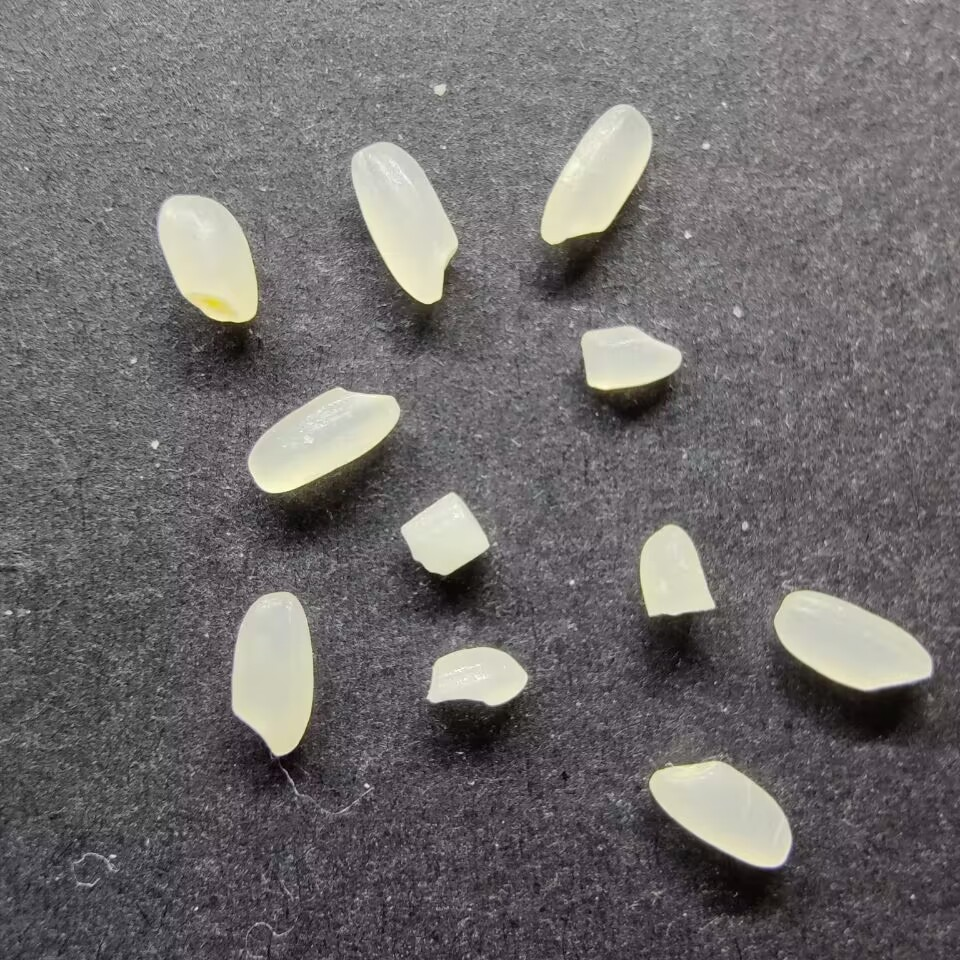broken: (399, 489, 491, 578), (636, 519, 717, 619), (422, 643, 532, 710), (579, 324, 685, 391)
rice: (348, 139, 460, 305), (535, 102, 656, 245), (771, 590, 937, 692), (244, 386, 400, 494), (648, 759, 792, 868), (229, 591, 315, 757), (155, 192, 258, 324)
